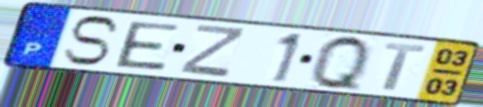1: (271, 32, 305, 84)
E: (114, 20, 183, 73)
Q: (309, 33, 373, 95)
S: (60, 14, 123, 67)
T: (382, 42, 430, 93)
Z: (177, 23, 249, 80)
